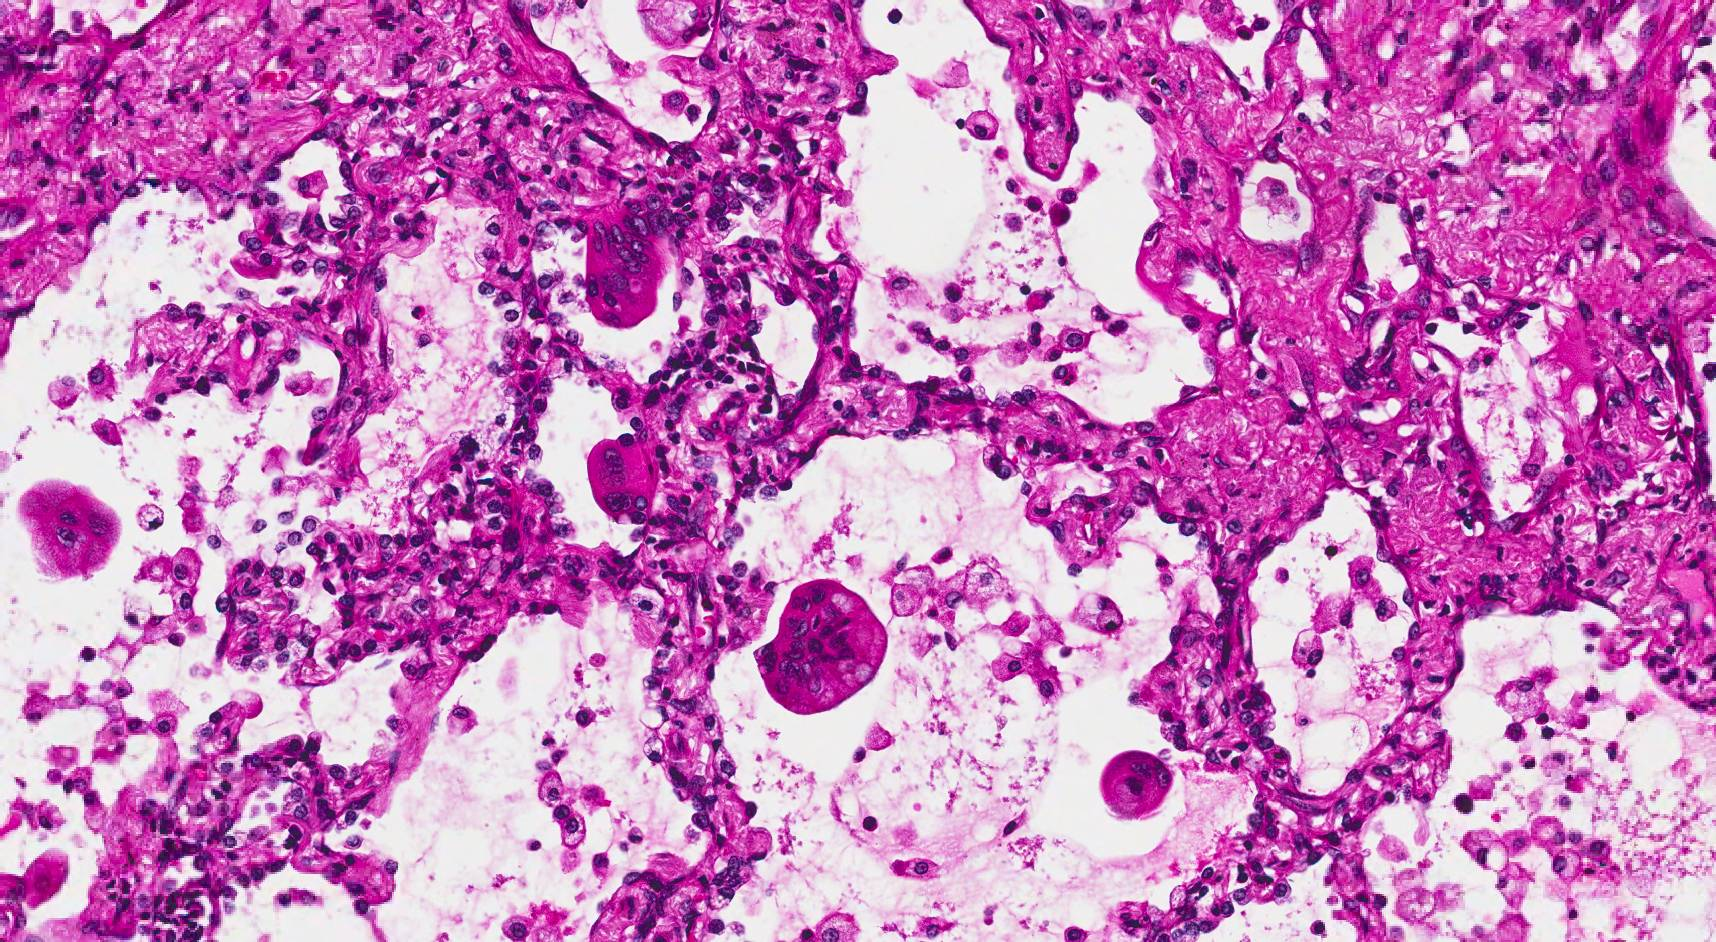stas: (752, 578, 887, 715), (16, 483, 120, 582), (1100, 749, 1175, 820)
